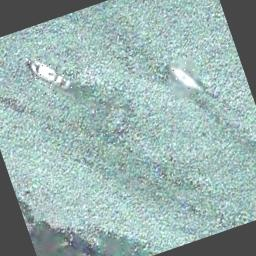boat: (28, 50, 72, 100), (166, 56, 204, 98)
